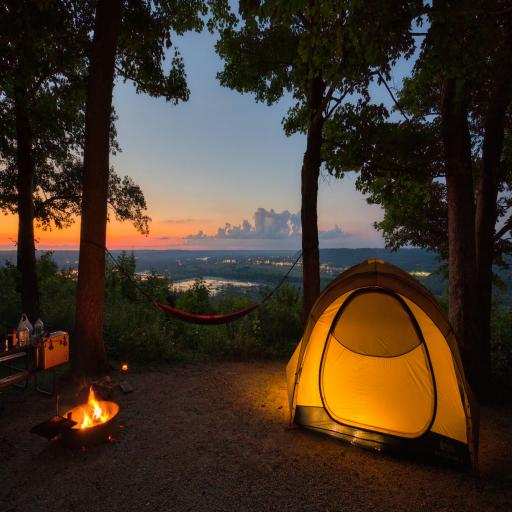campfire: (59, 368, 127, 460)
